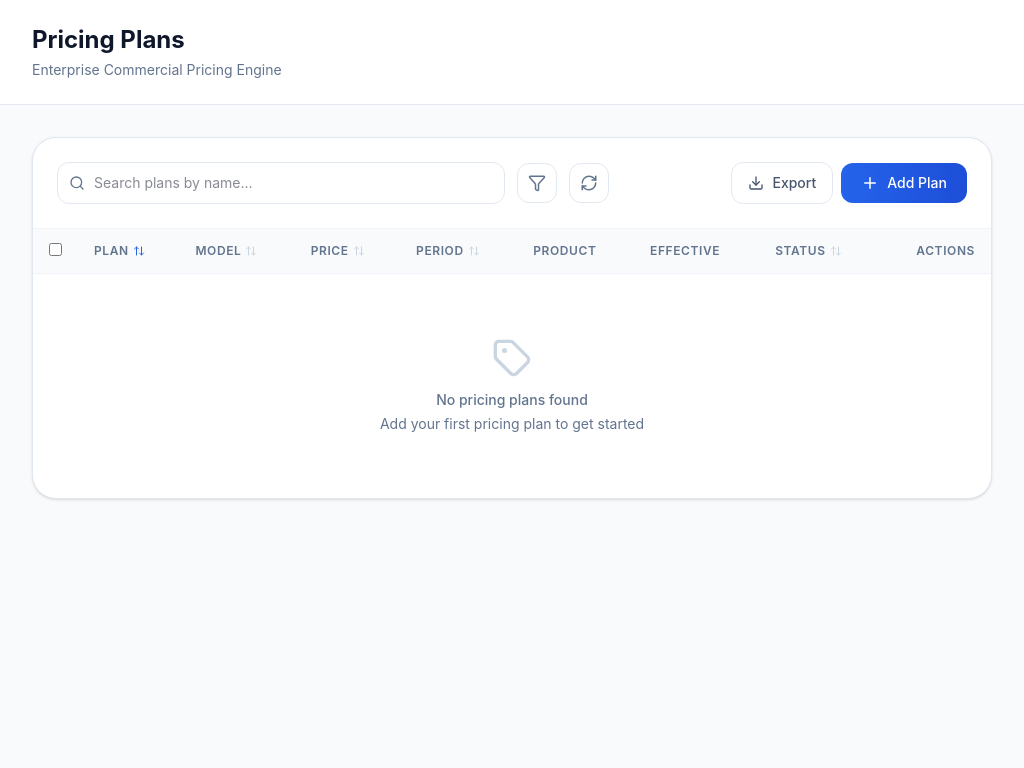
Scenario: Pricing Plans filters › clears status, model, period and search in one click
The width and height of the screenshot is (1024, 768).
Click the button named "toggle filters": x=537, y=183 [517,163,557,203]
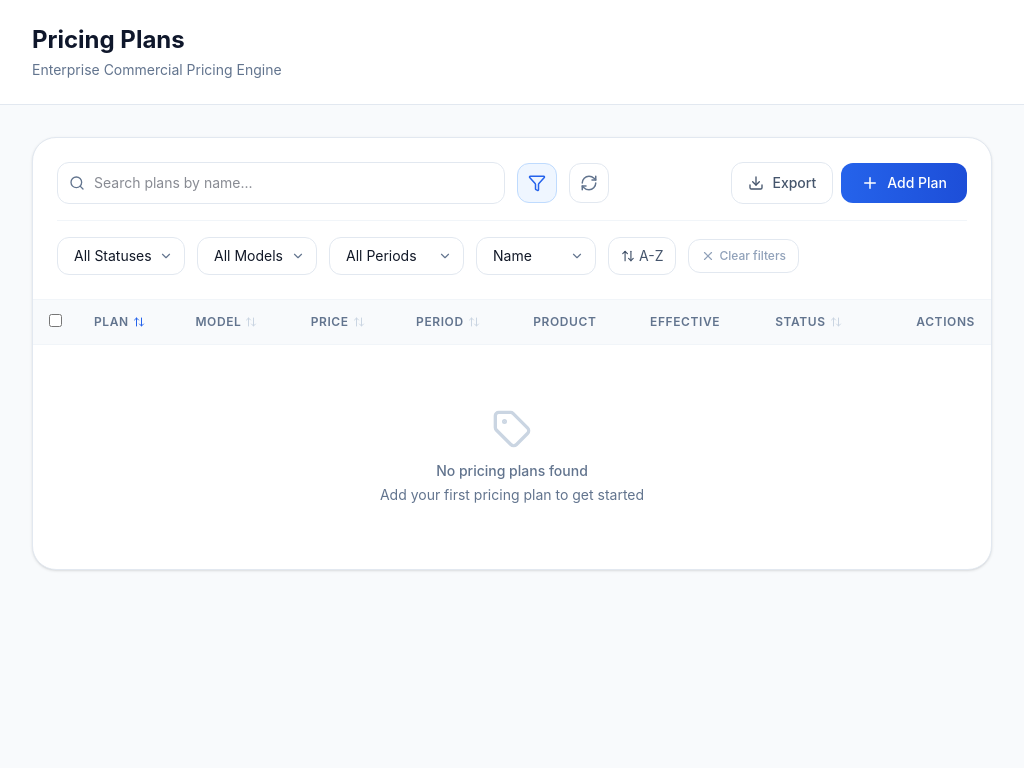
Expected: the button "Clear filters" is disabled, [688,239,799,273]
Select "Active" in the dropdown named "filter by status": x=121, y=256 [57,237,185,275]
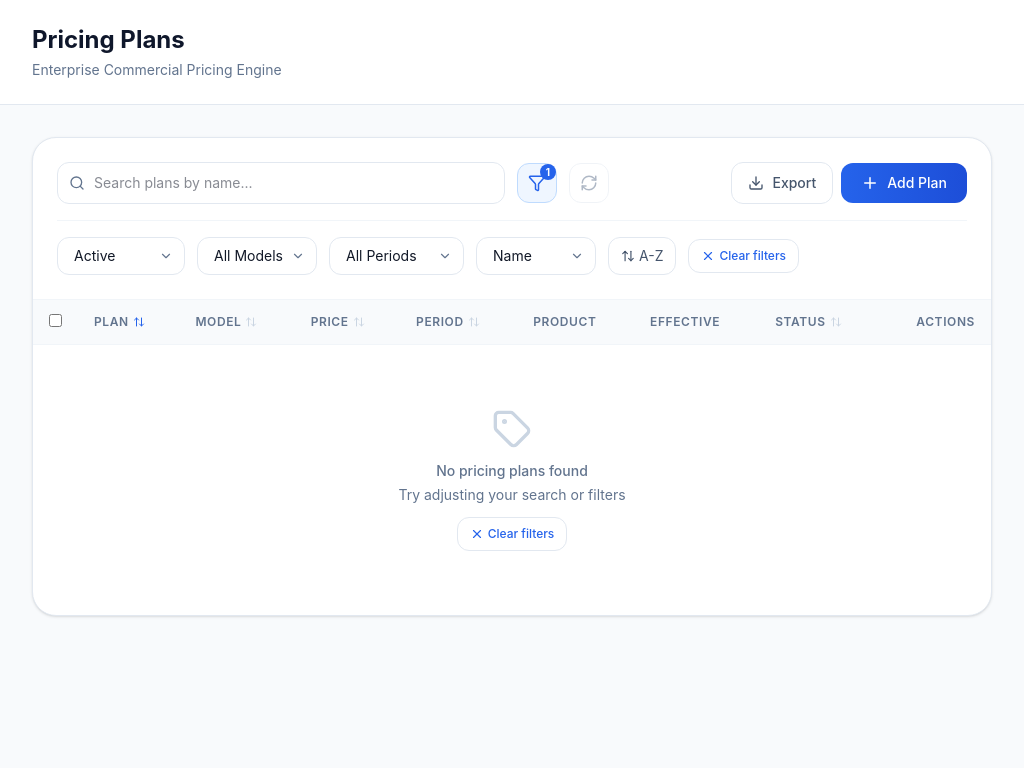
Select "Flat Rate" in the dropdown named "filter by pricing model": x=257, y=256 [197,237,317,275]
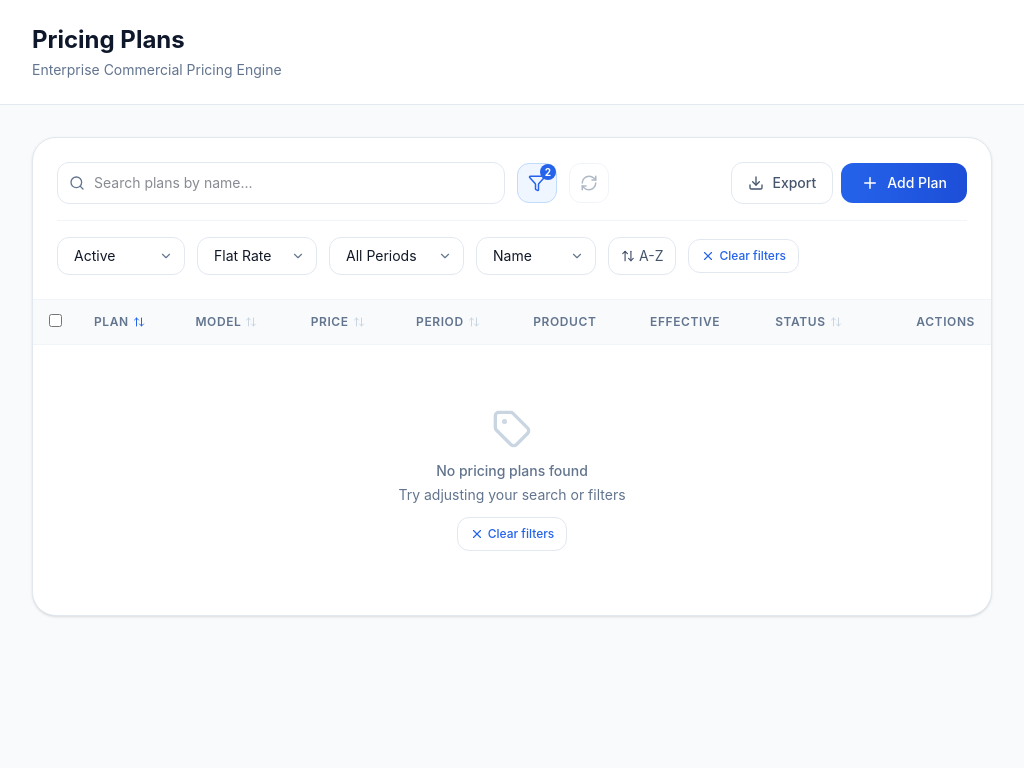
Select "One-Time" in the dropdown named "filter by billing period": x=396, y=256 [329,237,464,275]
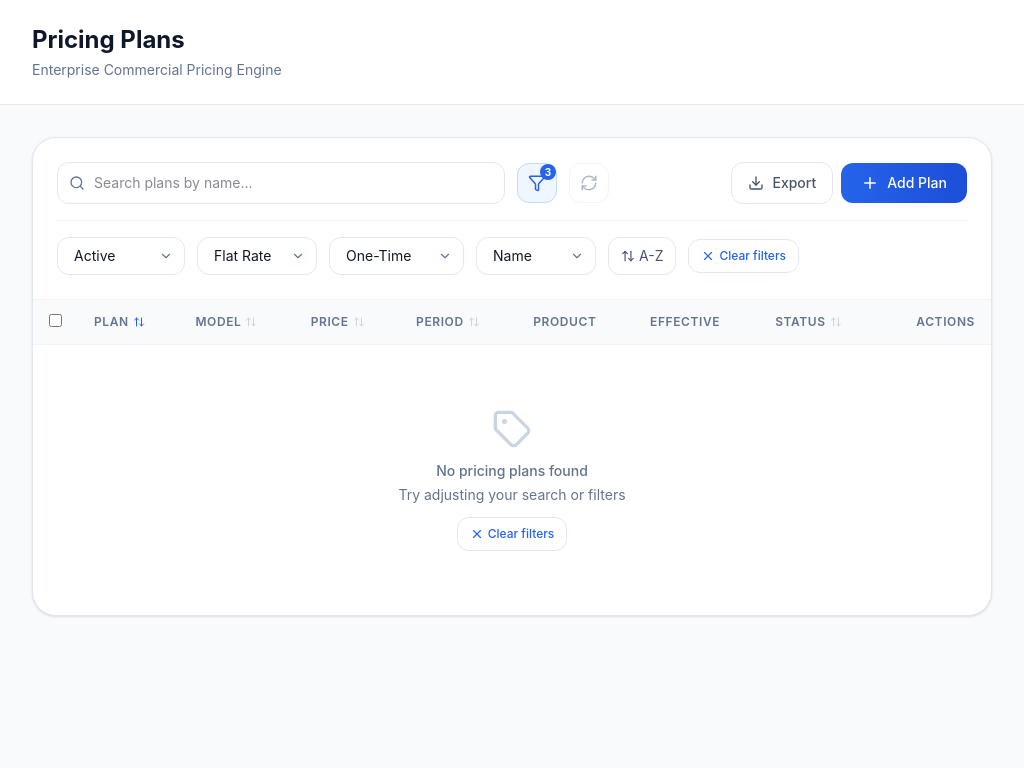
In the field labelled "Search plans by name...": x=281, y=183 [57,162,505,204], type "gold"
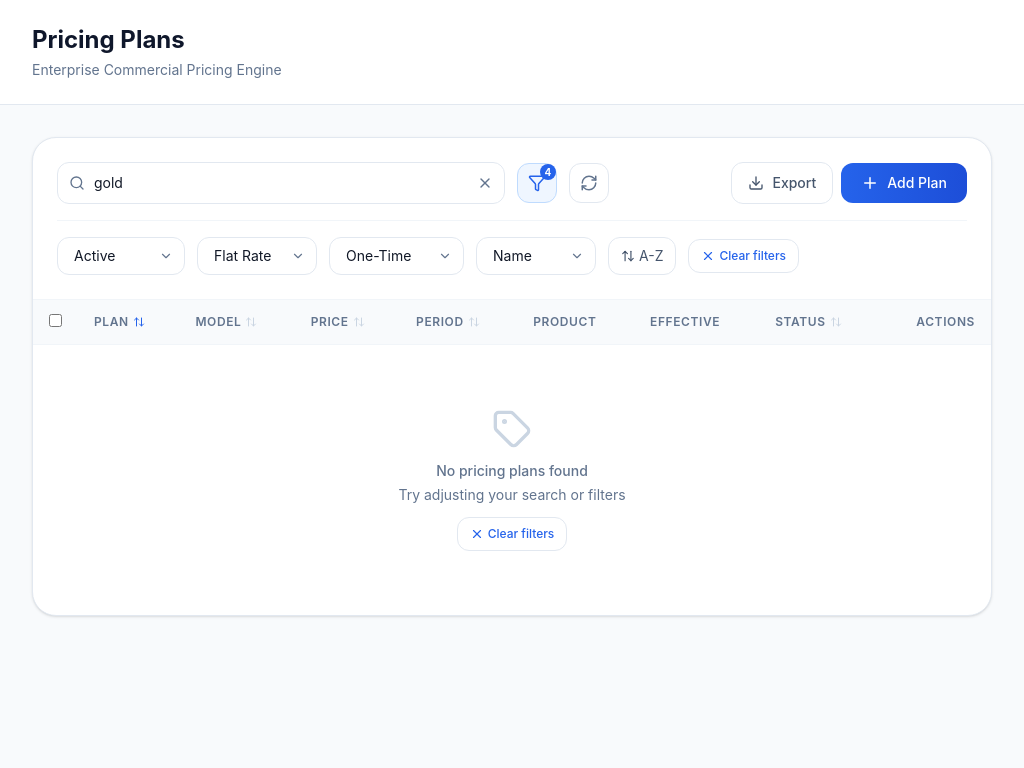
Expected: the text "Try adjusting your search or filters" is shown, [398,485,626,505]
Expected: the button named "toggle filters (4 active)" is shown, [517,163,557,203]
Click the 1st button "Clear filters": x=744, y=256 [688,239,799,273]
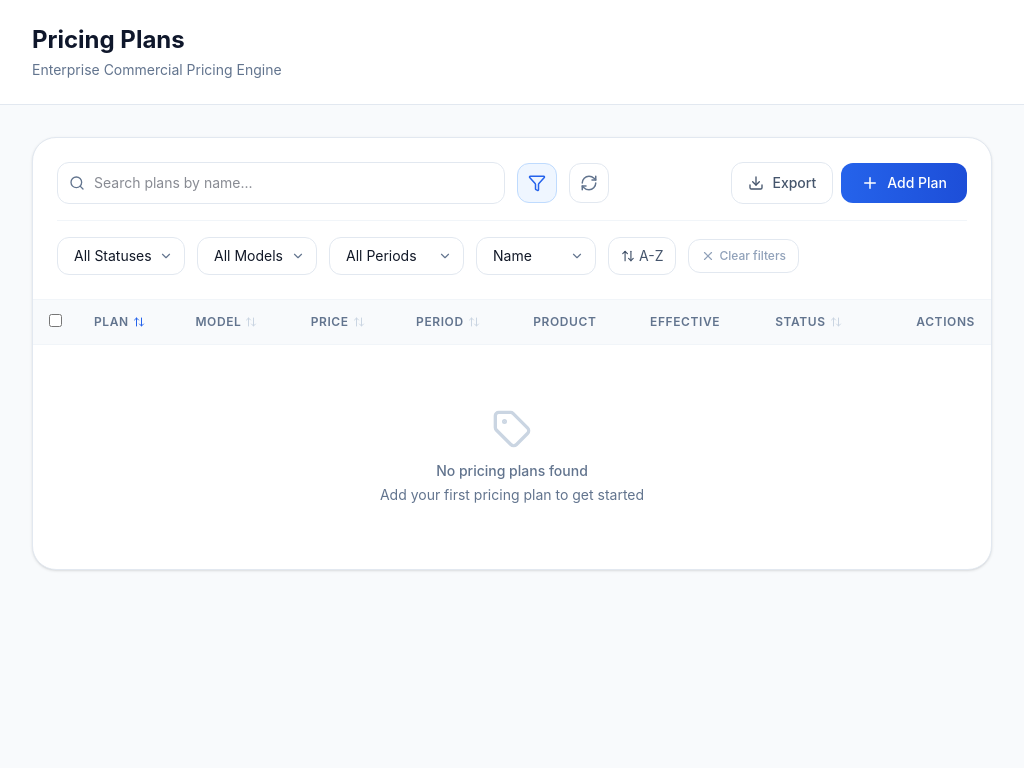
Expected: the field labelled "Search plans by name..." is empty, [57,162,505,204]
Expected: the button "Clear filters" is disabled, [688,239,799,273]
